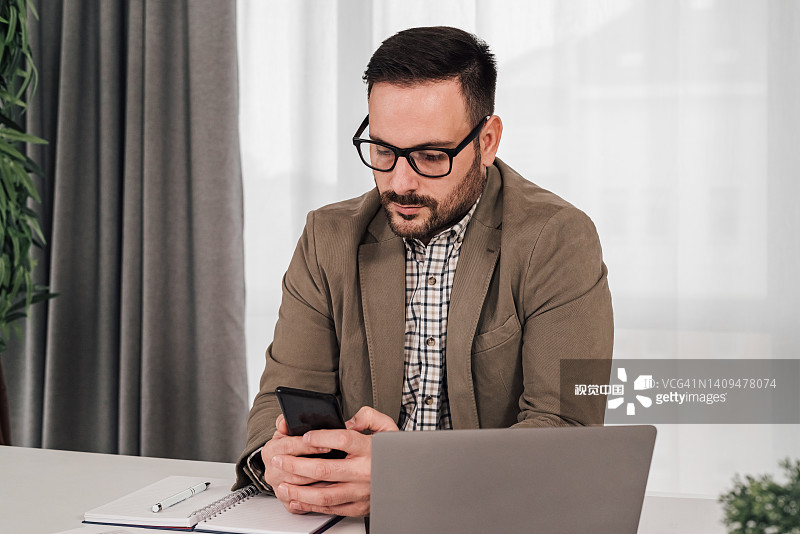reading: (254, 380, 409, 532)
